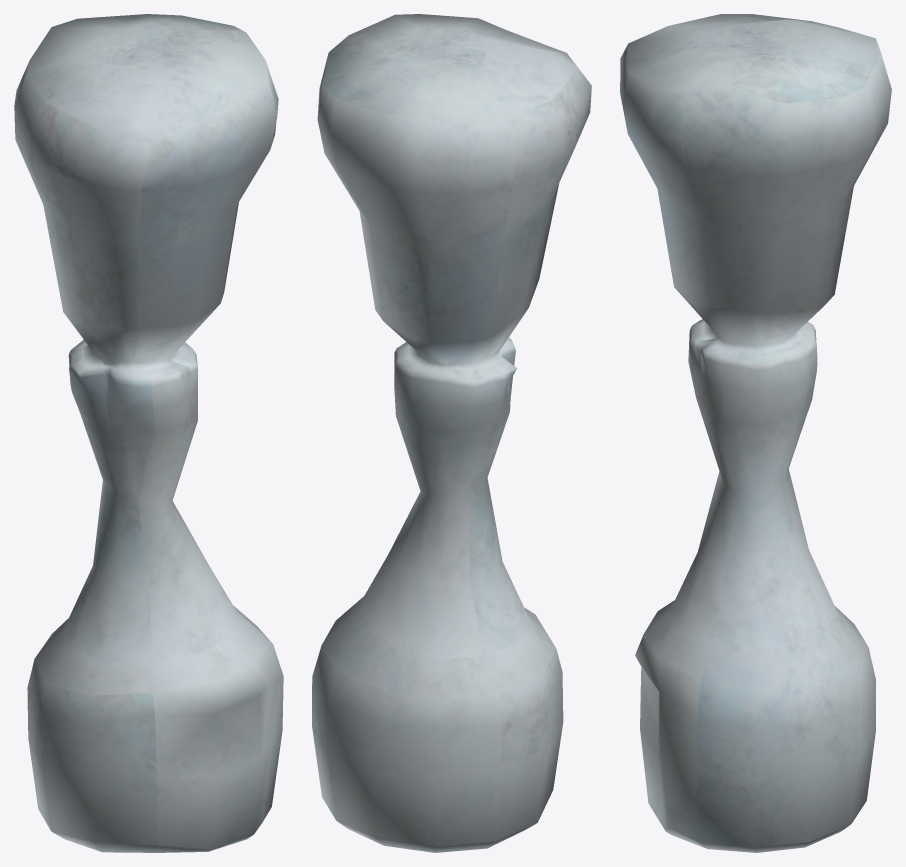
Rendered from P_RockDesert_Hoodoo06.obj.
The picture shows the model from 3 angles, left to right: view 1: azimuth 30°, elevation 25°; view 2: azimuth 150°, elevation 25°; view 3: azimuth 270°, elevation 25°; orthographic projection.
Size of the model in its own units: 5.8 by 18.27 by 5.84.
